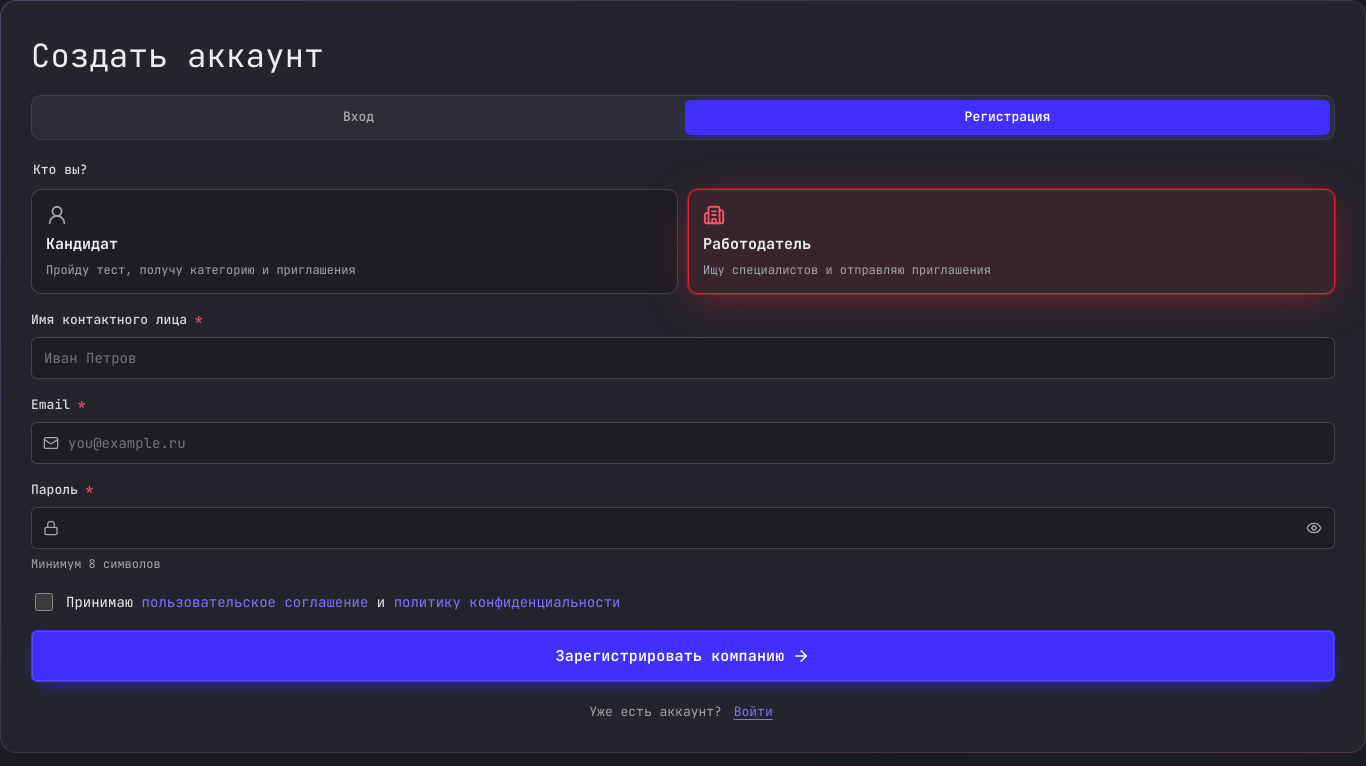
AuthPage › отправляет роль в теле регистрации
The image size is (1366, 766).
Type "Ольга" into the field labelled "Имя контактного лица *" at x=683, y=358, box [31, 337, 1335, 379]
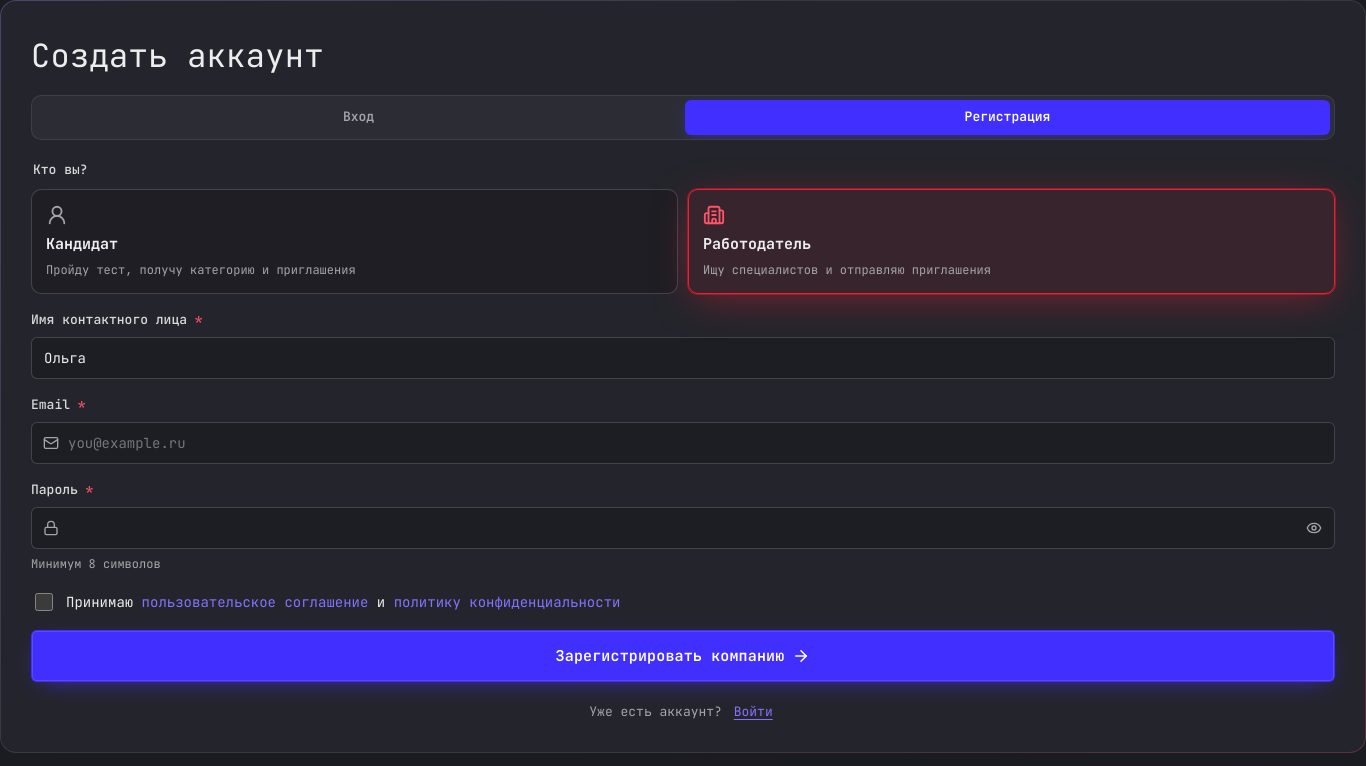
Type "hr@corp.ru" into the field labelled "Email *" at x=683, y=443, box [31, 422, 1335, 464]
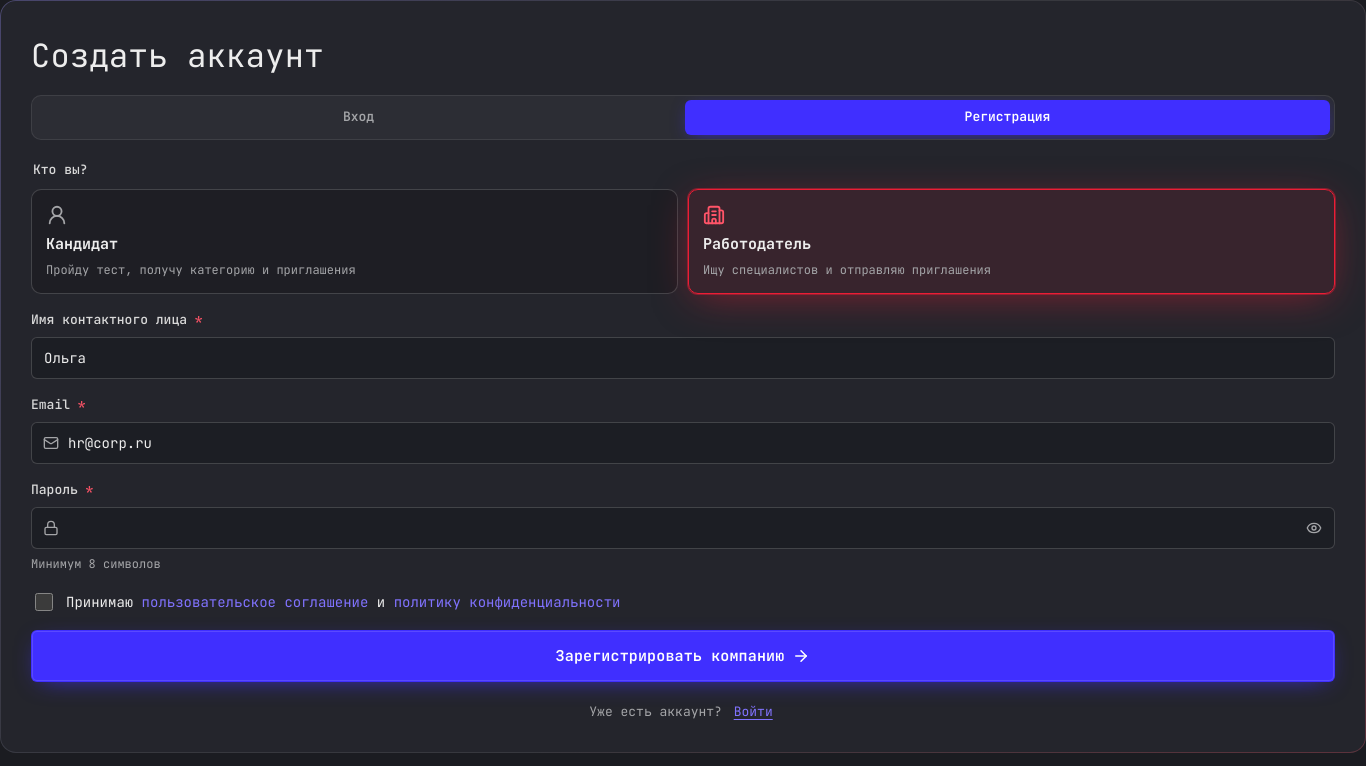
Type "secret123" into the password field labelled "Пароль *" at x=683, y=528, box [31, 507, 1335, 549]
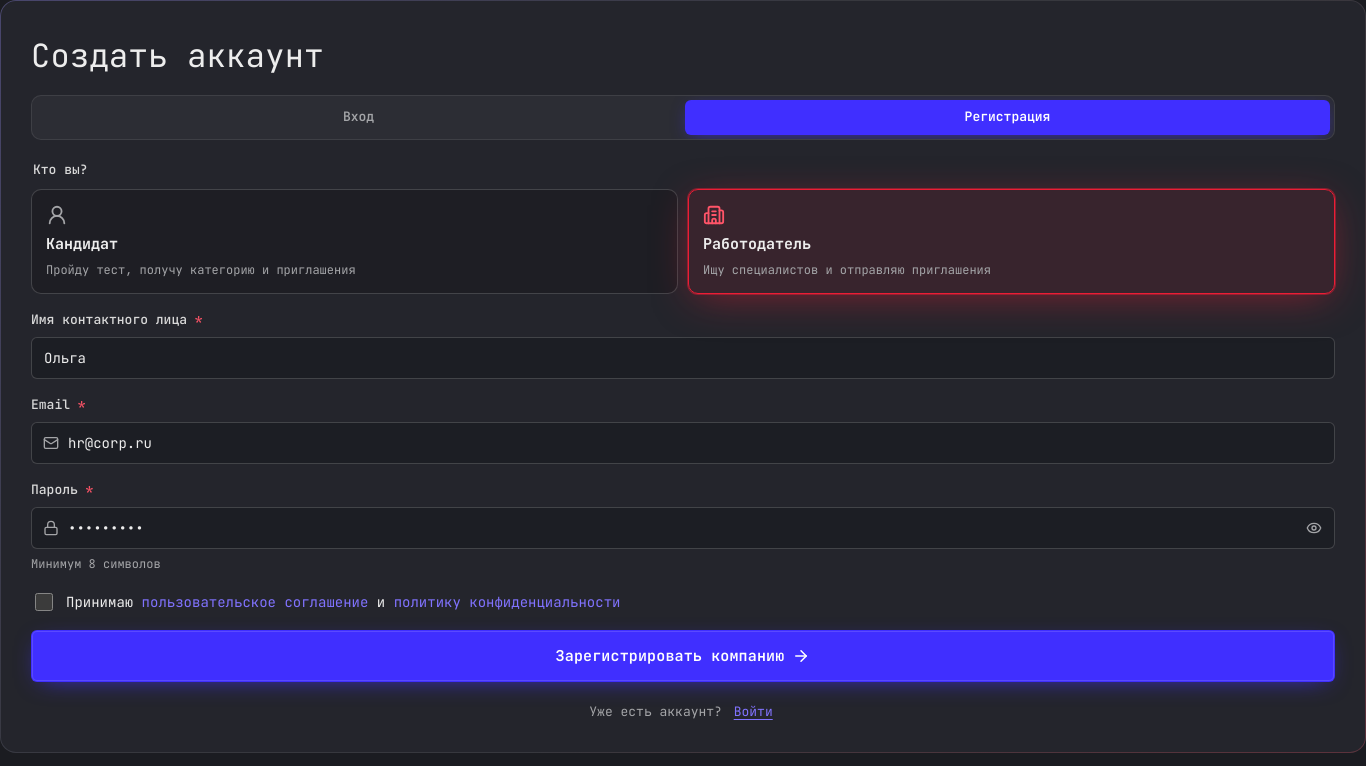
Click the checkbox at x=44, y=602, box [35, 592, 53, 610]
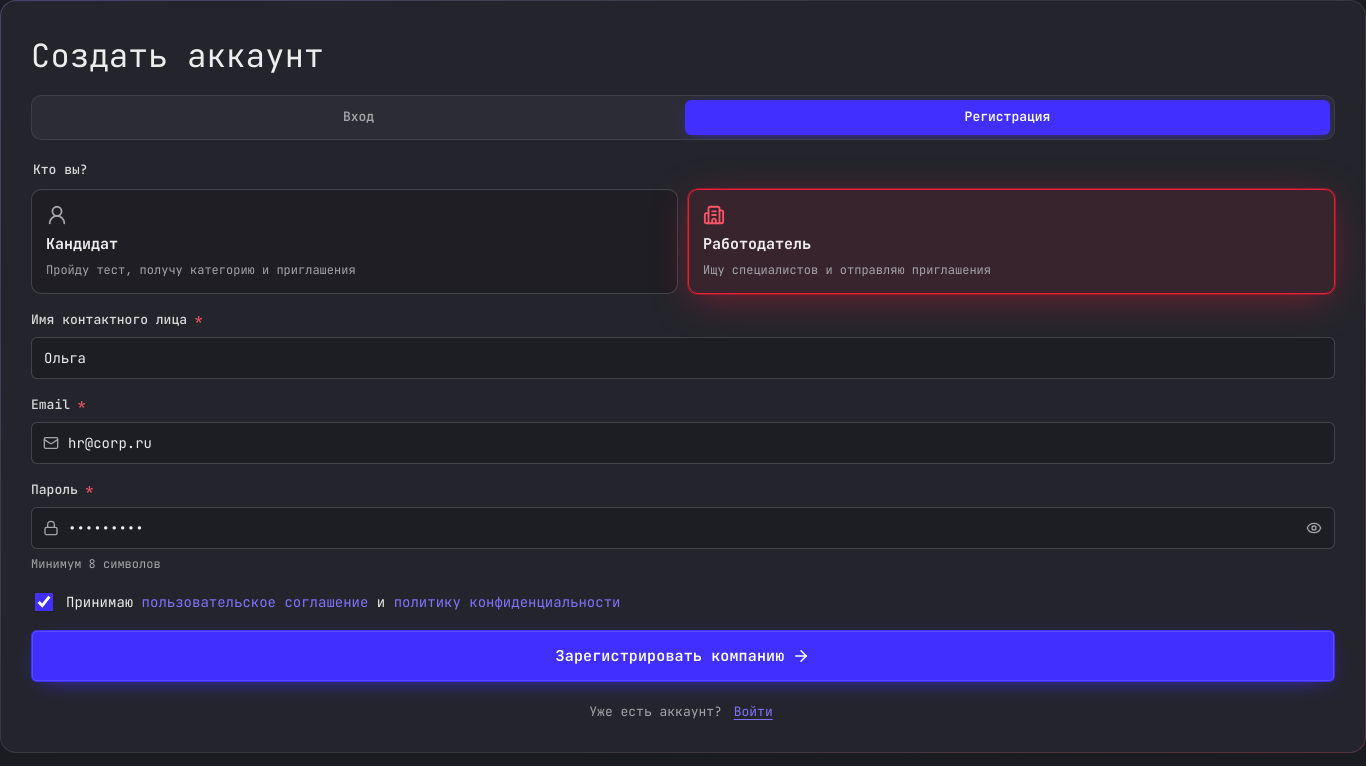
Click the button "Зарегистрировать компанию" at x=683, y=656, box [31, 630, 1335, 682]
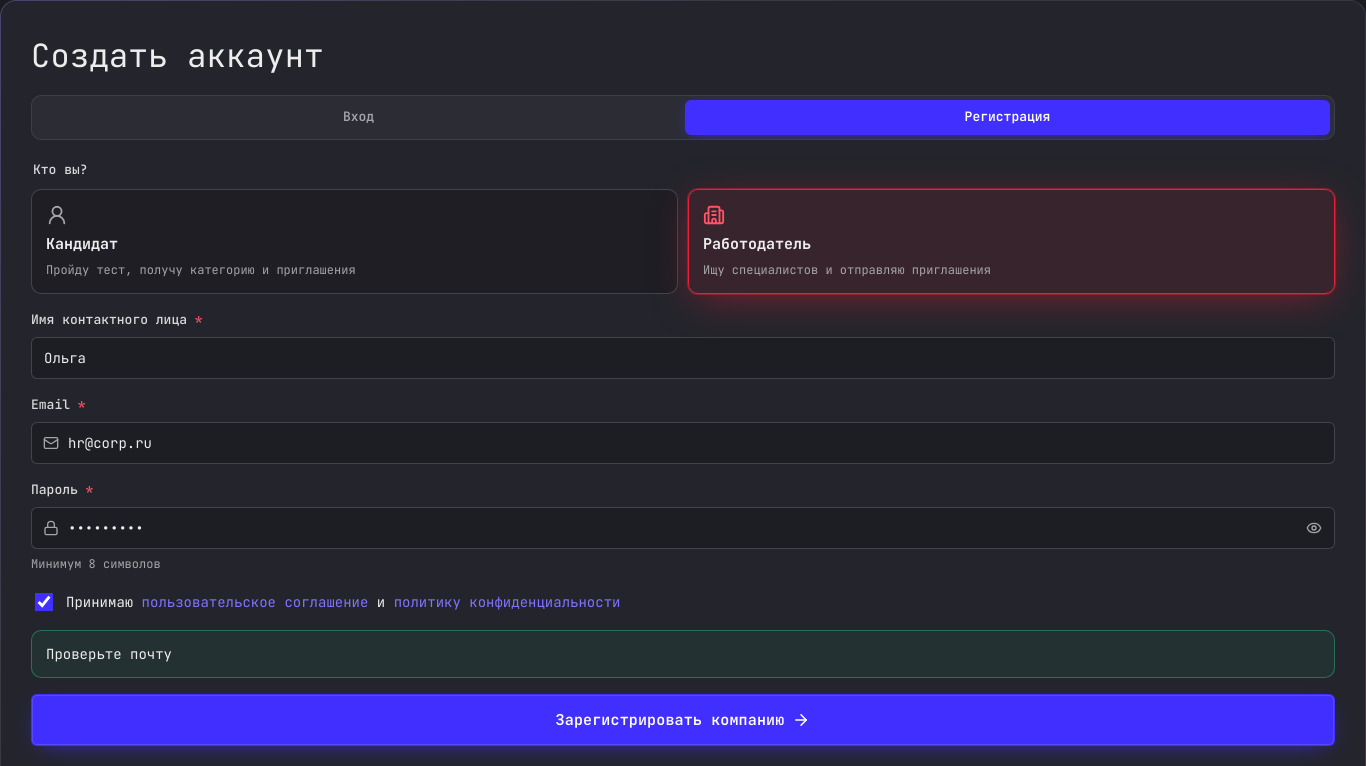
Check: the text "Проверьте почту" is shown, box [31, 630, 1335, 678]
